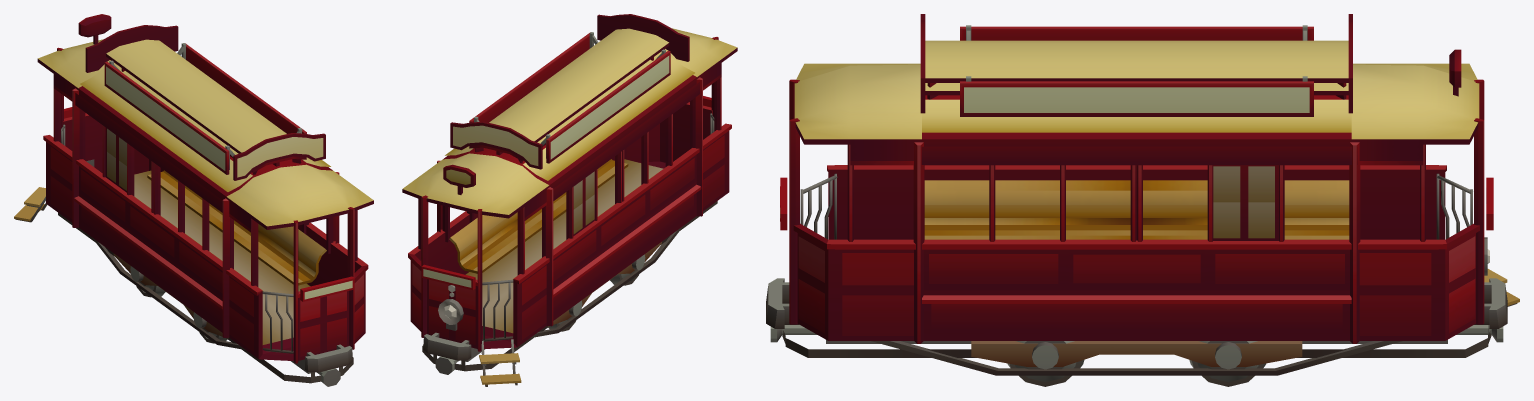
File: SM_Tramway_FrontPart_01.fbx
The picture shows the model from 3 angles, left to right: view 1: azimuth 30°, elevation 25°; view 2: azimuth 150°, elevation 25°; view 3: azimuth 270°, elevation 25°; orthographic projection. The views are drawn at different scales.
Visible parts, largest first — view 1: SM_Tramway_FrontPart_01; view 2: SM_Tramway_FrontPart_01; view 3: SM_Tramway_FrontPart_01.
Part boxes in pixels (x1,y1,x2,y2): SM_Tramway_FrontPart_01: (14, 14, 373, 386); SM_Tramway_FrontPart_01: (402, 14, 737, 386); SM_Tramway_FrontPart_01: (766, 14, 1519, 386).
Bounding box in the file's own units: 2.42 × 4.13 × 8.42.
